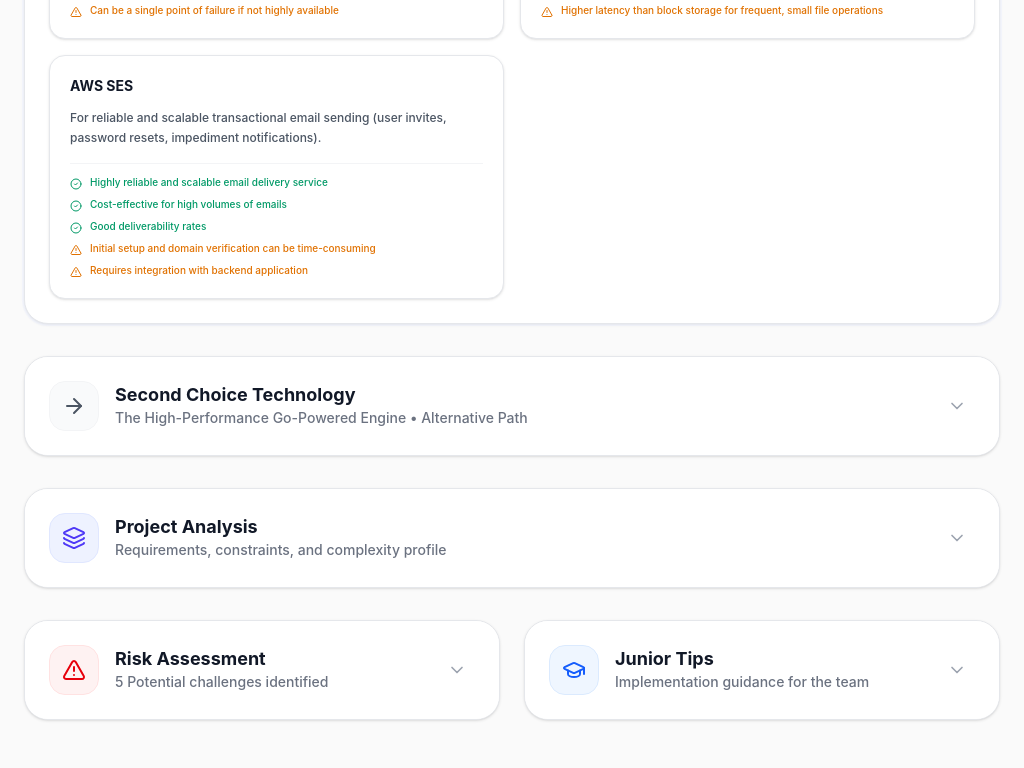
Test: NotificationsPage Integration › ouvre et ferme les sections accordéon au clic
(page scrolled)
Expected: the text "SaaS" is not shown
Click the button "Project Analysis" at (74, 538), box [25, 489, 999, 587]
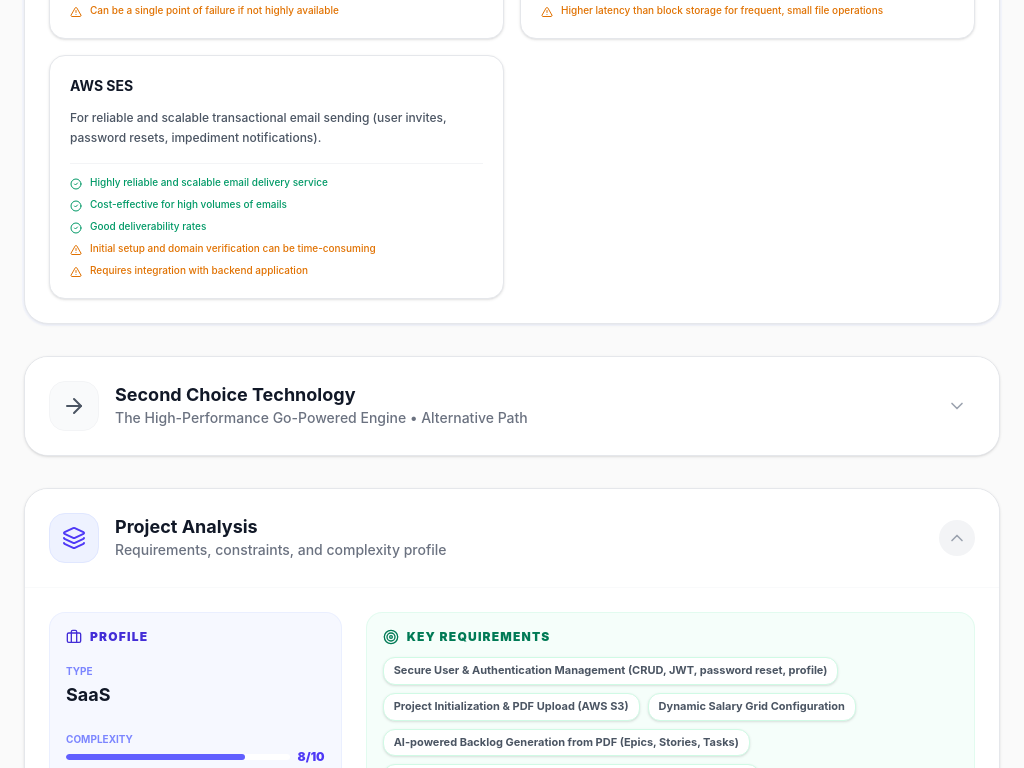
Result: the text "SaaS" is shown at [66, 684, 110, 705]
